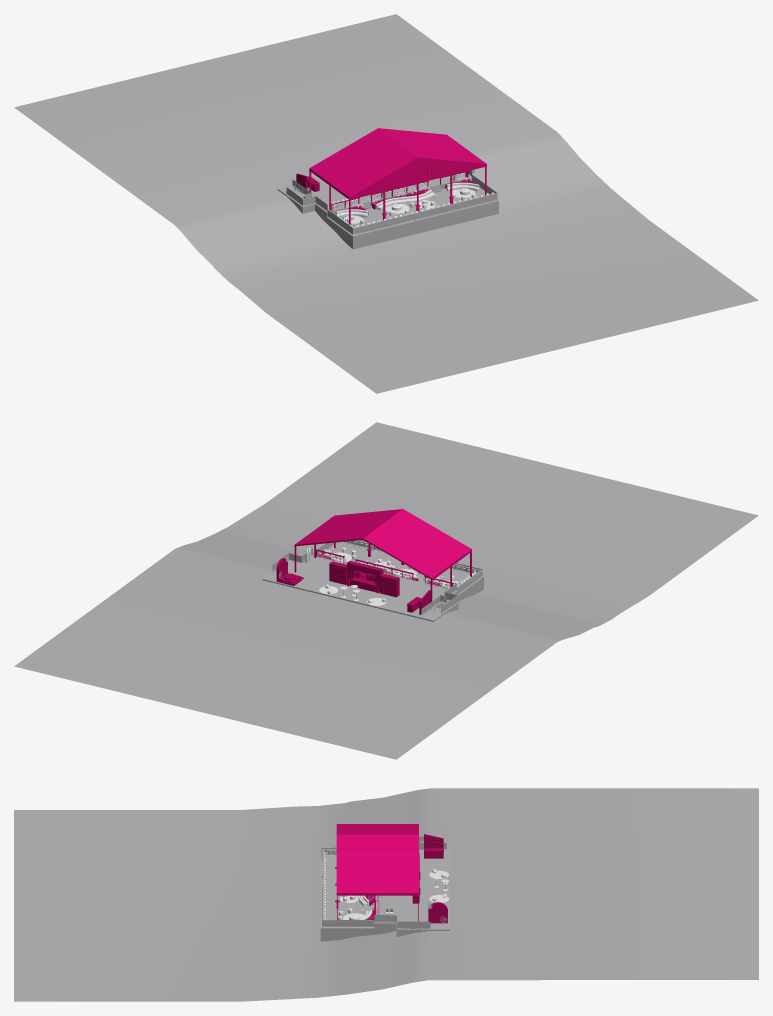
The model's file is lolla-lite.glb.
The picture shows the model from 3 angles, top to bottom: view 1: azimuth 30°, elevation 25°; view 2: azimuth 150°, elevation 25°; view 3: azimuth 270°, elevation 25°; orthographic projection. The views are drawn at different scales.
Parts seen in each view (by area): view 1: GRASS_ANIMATED, TENT_ANIMATED, FURNITURE_ANIMATED, RAILING_ANIMATED, MAGENTA_ANIMATED; view 2: GRASS_ANIMATED, TENT_ANIMATED, MAGENTA_ANIMATED, FURNITURE_ANIMATED, RAILING_ANIMATED; view 3: GRASS_ANIMATED, TENT_ANIMATED, RAILING_ANIMATED, FURNITURE_ANIMATED, MAGENTA_ANIMATED.
Part boxes in pixels (bbox=[...]): GRASS_ANIMATED: bbox=[14, 14, 758, 393]; TENT_ANIMATED: bbox=[309, 128, 486, 224]; FURNITURE_ANIMATED: bbox=[332, 172, 493, 227]; RAILING_ANIMATED: bbox=[286, 170, 497, 234]; MAGENTA_ANIMATED: bbox=[296, 171, 475, 215]; GRASS_ANIMATED: bbox=[14, 422, 758, 759]; TENT_ANIMATED: bbox=[294, 509, 471, 601]; MAGENTA_ANIMATED: bbox=[276, 549, 453, 614]; FURNITURE_ANIMATED: bbox=[305, 541, 476, 605]; RAILING_ANIMATED: bbox=[272, 540, 482, 616]; GRASS_ANIMATED: bbox=[14, 788, 758, 1001]; TENT_ANIMATED: bbox=[335, 824, 418, 921]; RAILING_ANIMATED: bbox=[321, 836, 446, 929]; FURNITURE_ANIMATED: bbox=[324, 850, 448, 919]; MAGENTA_ANIMATED: bbox=[365, 834, 447, 923].
Size of the model in its own units: 55.88 by 10.2 by 91.76.
